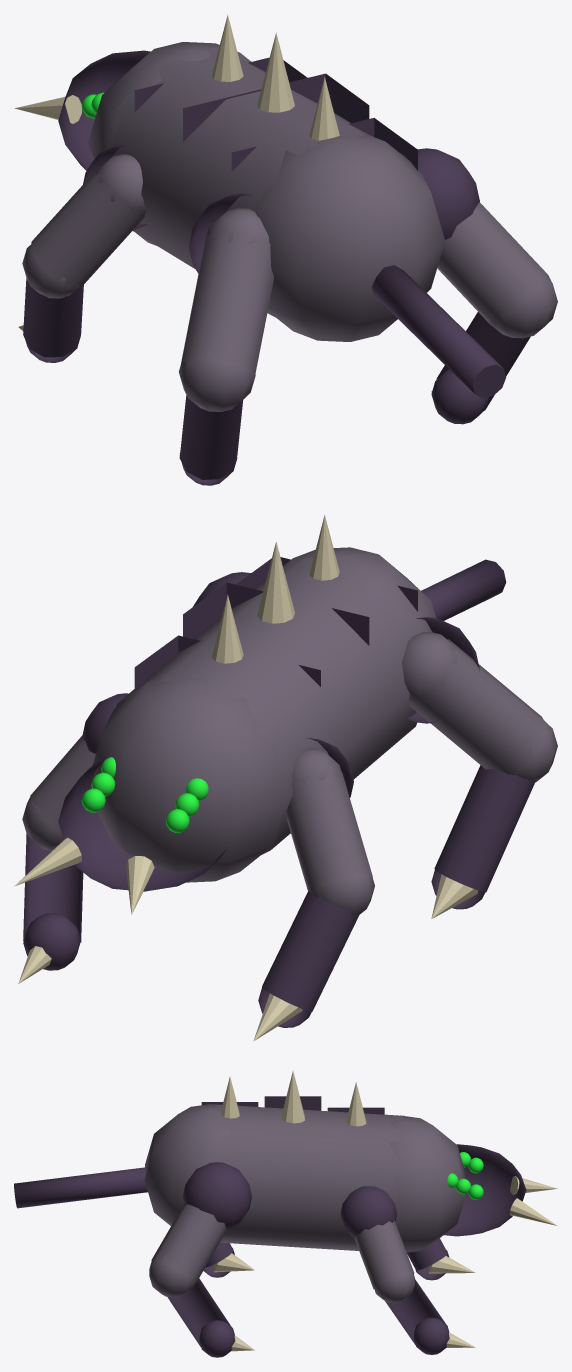
The model's file is Alien_Crawler.obj.
3 renders of one model, top to bottom at view 1: azimuth 30°, elevation 25°; view 2: azimuth 150°, elevation 25°; view 3: azimuth 270°, elevation 25°, orthographic. The views are drawn at different scales.
Visible parts, largest first — view 1: Alien_Crawler; view 2: Alien_Crawler; view 3: Alien_Crawler.
Boxes of the visible parts, x1,y1,x2,y2 form: Alien_Crawler: (14,14,557,485); Alien_Crawler: (14,515,557,1041); Alien_Crawler: (14,1070,557,1357).
Size of the model in its own units: 0.88 by 0.86 by 1.73.
